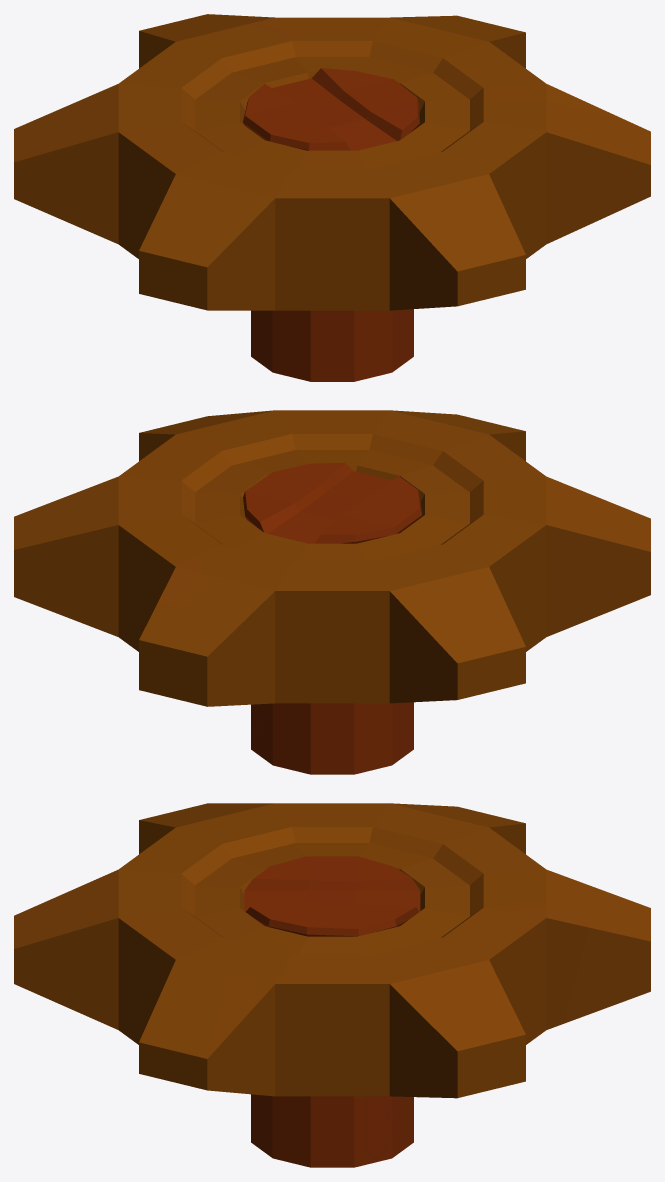
The model's file is Gear Small_01.glb.
3 views of the same model, one above another, from view 1: azimuth 30°, elevation 25°; view 2: azimuth 150°, elevation 25°; view 3: azimuth 270°, elevation 25° (orthographic).
Visible parts, largest first — view 1: GearSmall_01; view 2: GearSmall_01; view 3: GearSmall_01.
Boxes of the visible parts, x1=… form: GearSmall_01: x1=14, y1=14, x2=650, y2=381; GearSmall_01: x1=14, y1=410, x2=650, y2=774; GearSmall_01: x1=14, y1=803, x2=650, y2=1167.
Size of what is drawn, in the model's own units: 0.6816 by 0.3085 by 0.7344.
1 material, 1 textured.
